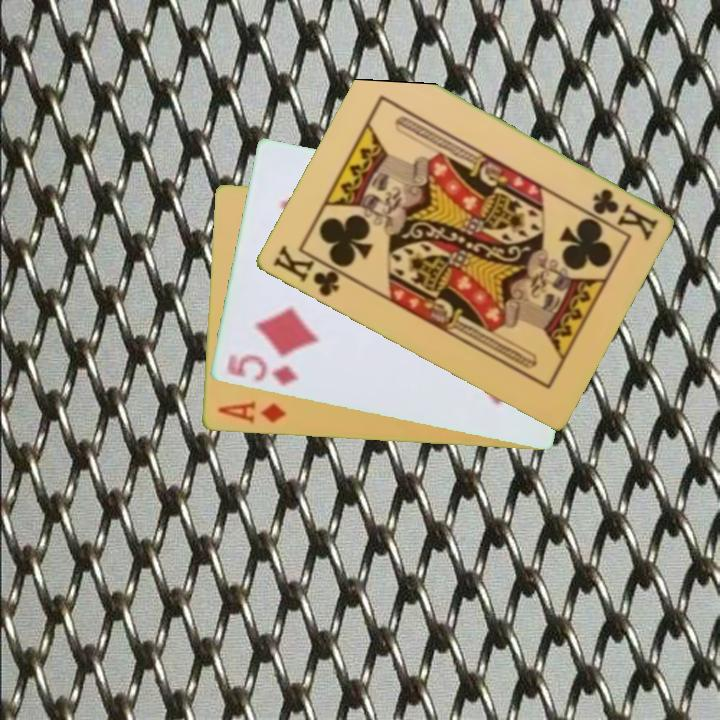5d: (222, 351, 301, 389)
Ad: (213, 398, 288, 427)
Kc: (269, 242, 352, 300), (588, 185, 661, 243)
